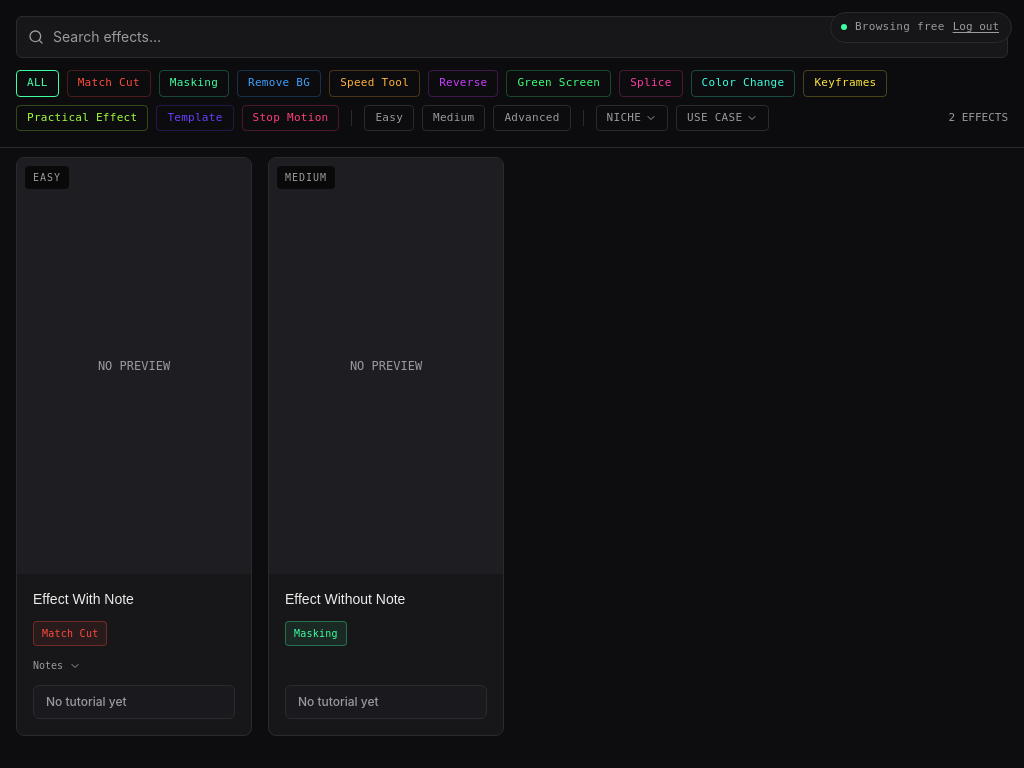
Test: notes popover › clicking Notes reveals the full text, clicking again hides it
(page scrolled)
Expected: the heading "Effect With Note" is shown, [33,591,134,607]
Click the button "Notes".
click(57, 666)  # box [33,658,81,673]
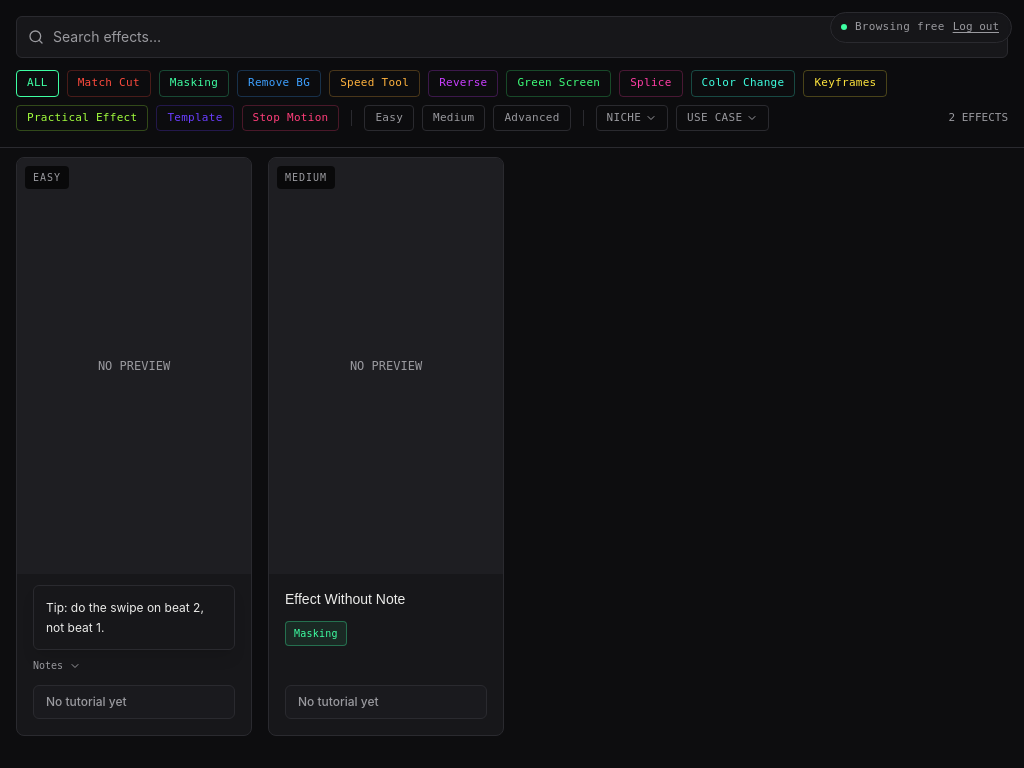
Result: the text "Tip: do the swipe on beat 2, not beat 1." is shown at [33,585,235,650]
Click the button "Notes".
click(57, 666)  # box [33,658,81,673]
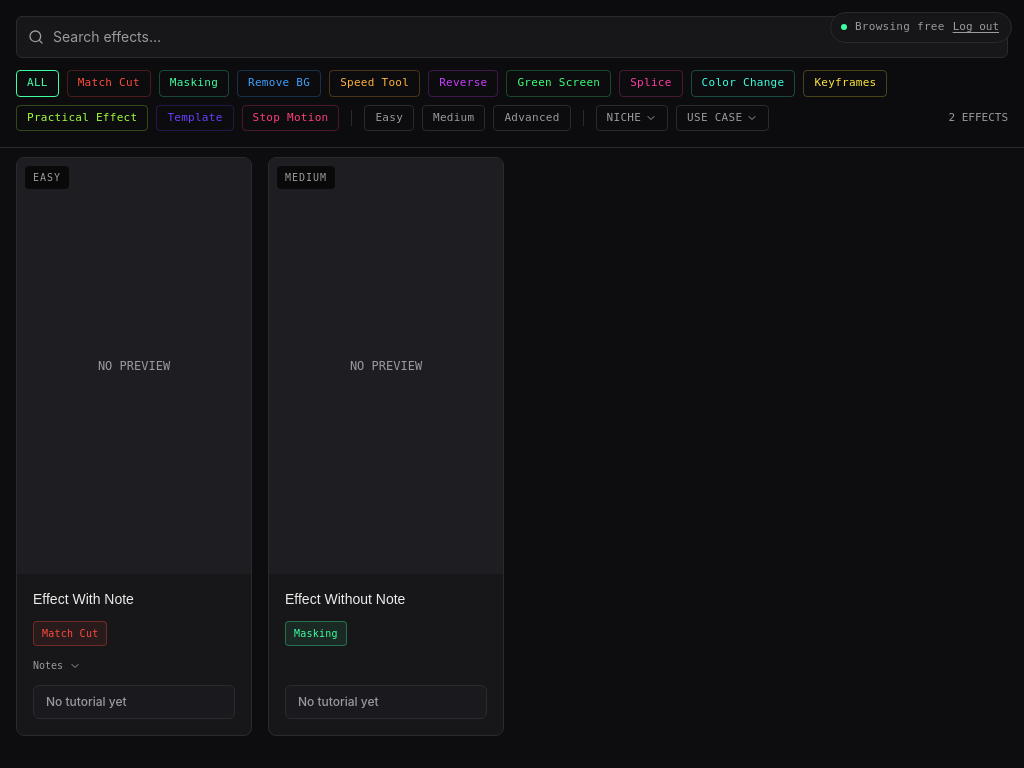
Result: the text "Tip: do the swipe on beat 2, not beat 1." is gone
